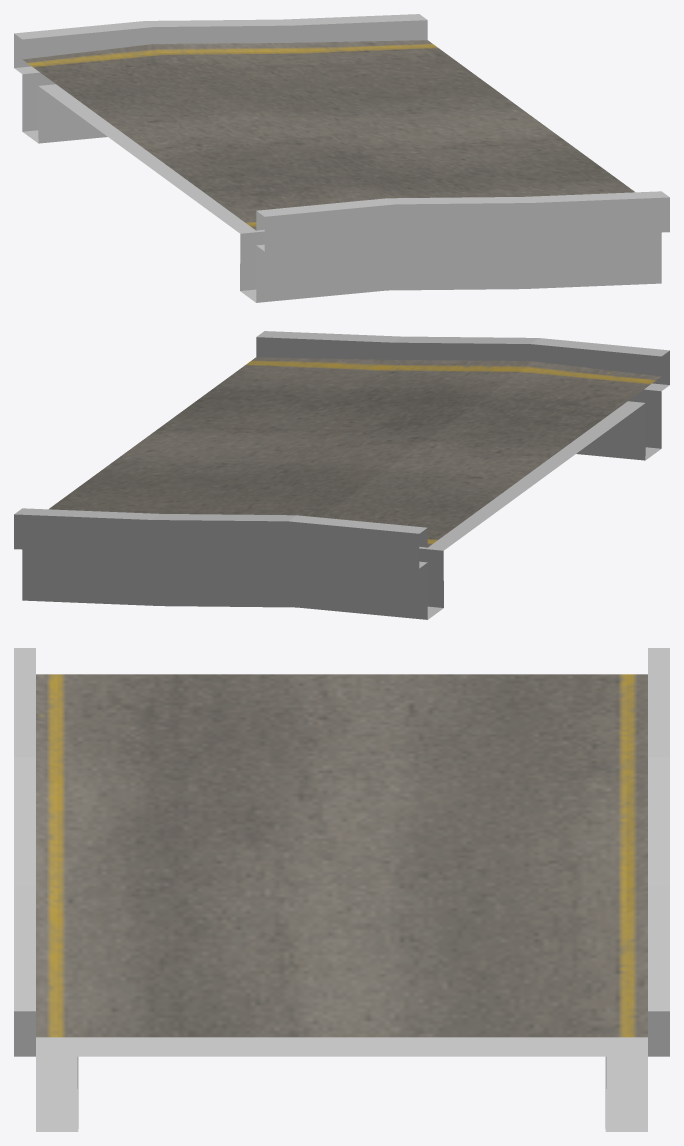
File: Urban_Road2BridgeRampNoSides_Model.fbx
3 views of the same model, one above another, from view 1: azimuth 30°, elevation 25°; view 2: azimuth 150°, elevation 25°; view 3: azimuth 270°, elevation 25° (orthographic). The views are drawn at different scales.
Visible parts, largest first — view 1: Urban_Road2BridgeRampNoSides_Mesh; view 2: Urban_Road2BridgeRampNoSides_Mesh; view 3: Urban_Road2BridgeRampNoSides_Mesh.
Part boxes in pixels (box(x1,y1,x2,y2)): Urban_Road2BridgeRampNoSides_Mesh: box(14, 14, 669, 302); Urban_Road2BridgeRampNoSides_Mesh: box(14, 331, 669, 619); Urban_Road2BridgeRampNoSides_Mesh: box(14, 648, 669, 1131).
Bounding box in the file's own units: 16 × 6.48 × 17.13.
